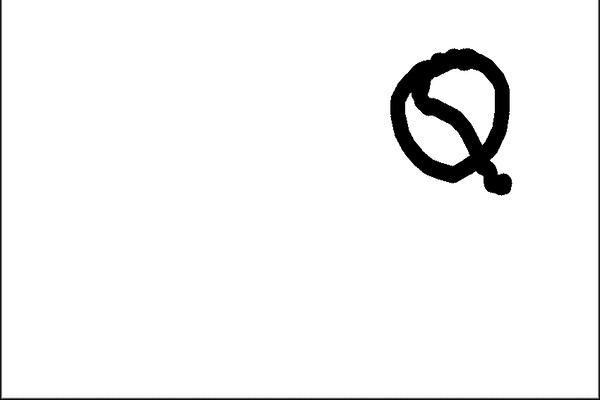Q: (383, 40, 518, 205)
